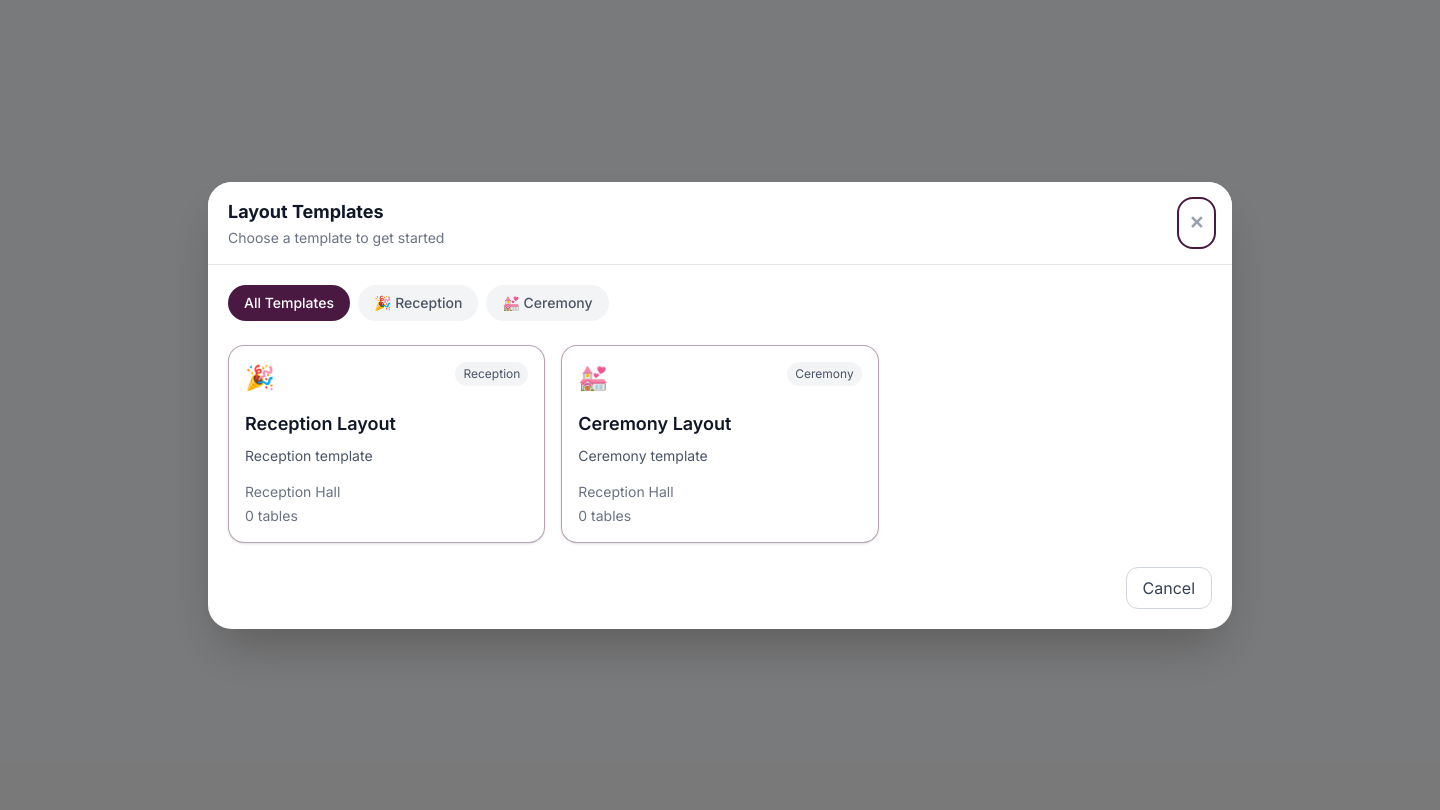
it: TemplateSelector › filters templates by selected category
This screenshot has width=1440, height=810.
Expected: the heading "Reception Layout" is shown, [245,412,396,434]
Expected: the heading "Ceremony Layout" is shown, [578,412,731,434]
Click the tab "💒 Ceremony". click: (548, 302)
box: [486,284,609,320]
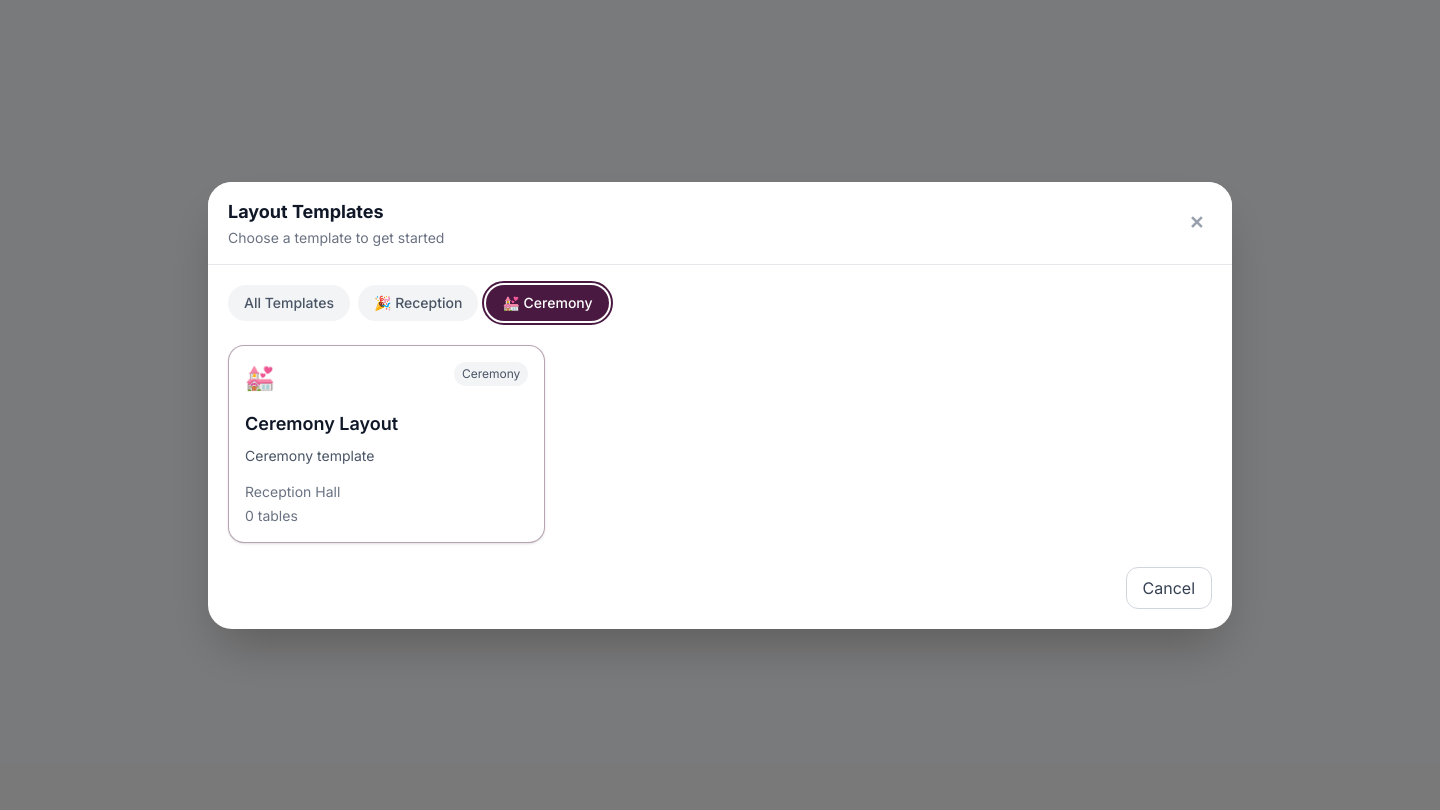
Expected: the heading "Ceremony Layout" is shown, [245,412,398,434]
Now the list item "Reception Layout" is gone
